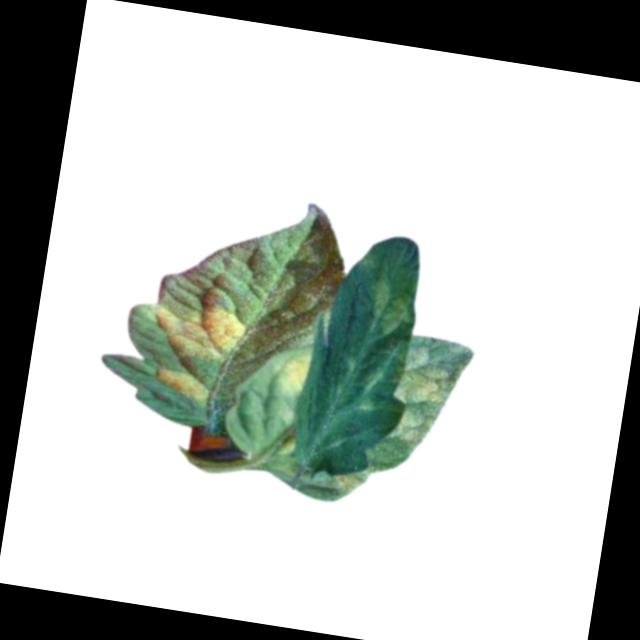Leaf_Mold: (384, 342, 467, 458), (146, 297, 248, 367), (360, 269, 416, 339), (149, 364, 212, 407), (269, 348, 315, 395), (327, 465, 364, 499)
